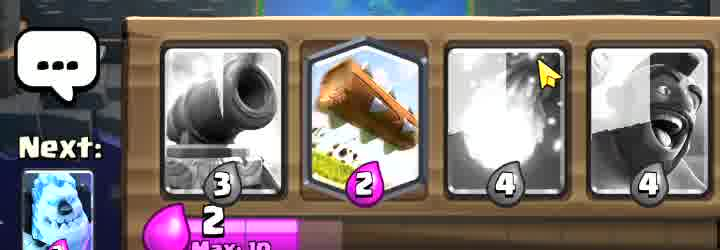ice-golem: (25, 171, 92, 249)
log: (310, 43, 424, 192)
